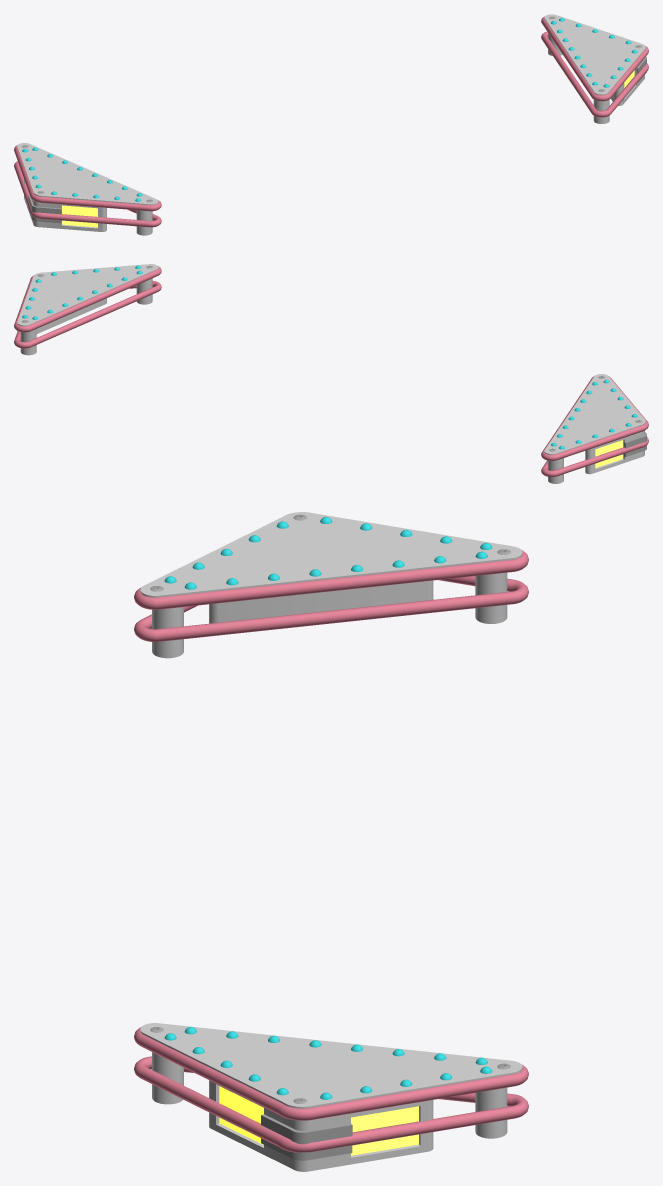
Rendered from Triangle bomper.fbx.
3 views of the same model, one above another, from view 1: azimuth 30°, elevation 25°; view 2: azimuth 150°, elevation 25°; view 3: azimuth 270°, elevation 25° (orthographic). The views are drawn at different scales.
Visible parts, largest first — view 1: Circle.005; view 2: Circle.005; view 3: Circle.005.
Boxes of the visible parts, x1,y1,x2,y2 form: Circle.005: (14,14,648,235); Circle.005: (14,264,648,483); Circle.005: (134,512,528,1171).
Bounding box in the file's own units: 1876 × 101 × 522.
